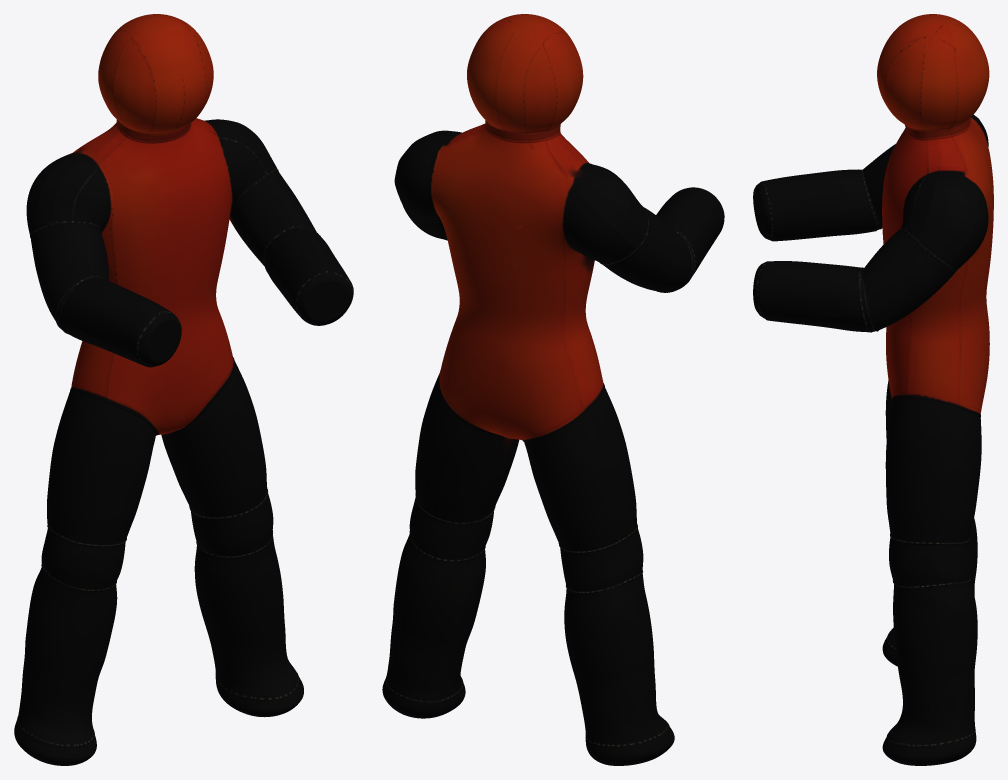
The model's file is grappling_dummy__hunyuan.glb.
3 renders of one model, left to right at view 1: azimuth 30°, elevation 25°; view 2: azimuth 150°, elevation 25°; view 3: azimuth 270°, elevation 25°, orthographic. The views are drawn at different scales.
Parts seen in each view (by area): view 1: material; view 2: material; view 3: material.
Boxes of the visible parts, x1,y1,x2,y2 form: material: [14, 14, 353, 765]; material: [382, 14, 724, 765]; material: [753, 14, 993, 765].
Size of the model in its own units: 0.4582 by 1.13 by 0.3561.
Materials: 1 (1 with a texture image).
